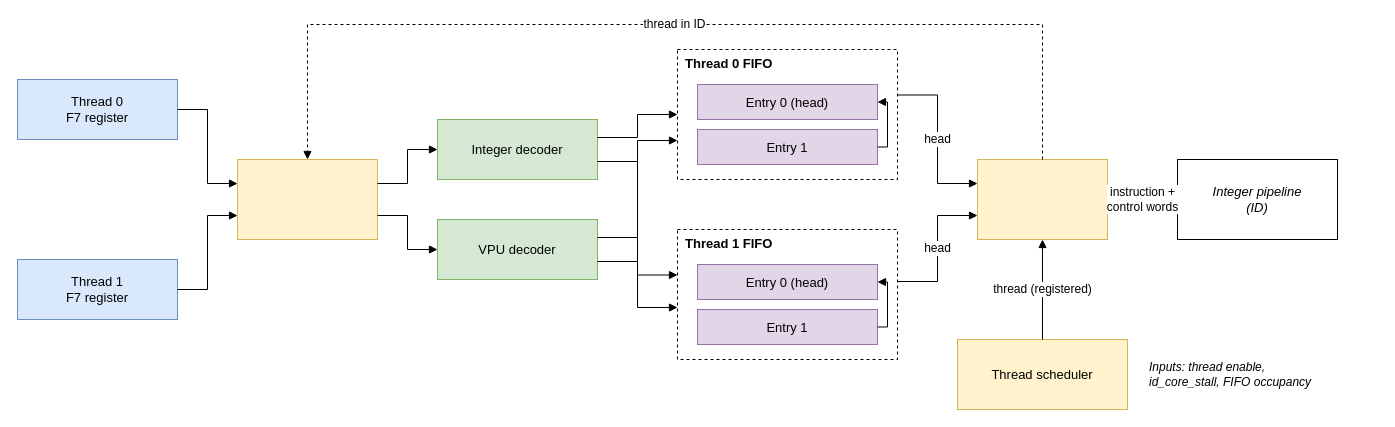
This 1395x427 diagram has some shape labels left out. Each missing label, with the box of its shape:
Decode-thread select: (236, 158, 378, 240)
ID output select: (976, 158, 1108, 240)
